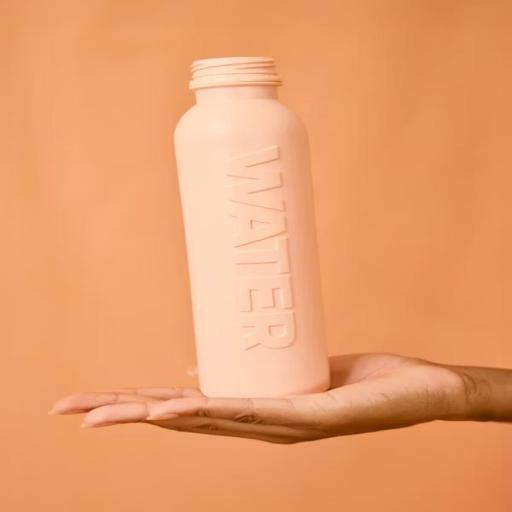bottle: (168, 49, 344, 411)
